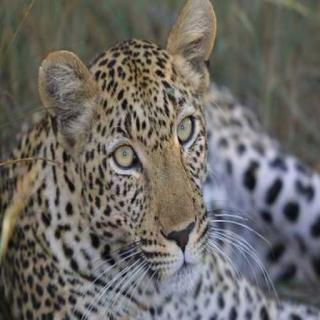Leopard: (12, 18, 259, 320)
